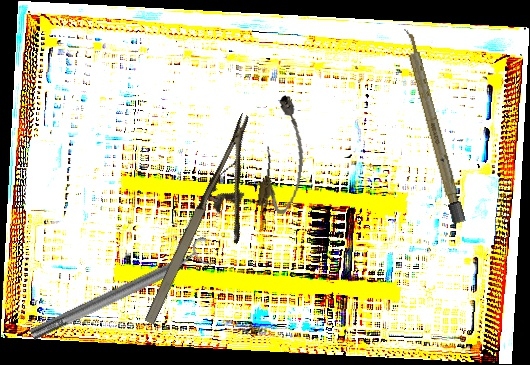Cannula: (255, 92, 314, 217)
Fixation Ring: (24, 234, 218, 349)
Needle Holder: (138, 112, 291, 343)
Scalpel Handle: (401, 26, 466, 225)
